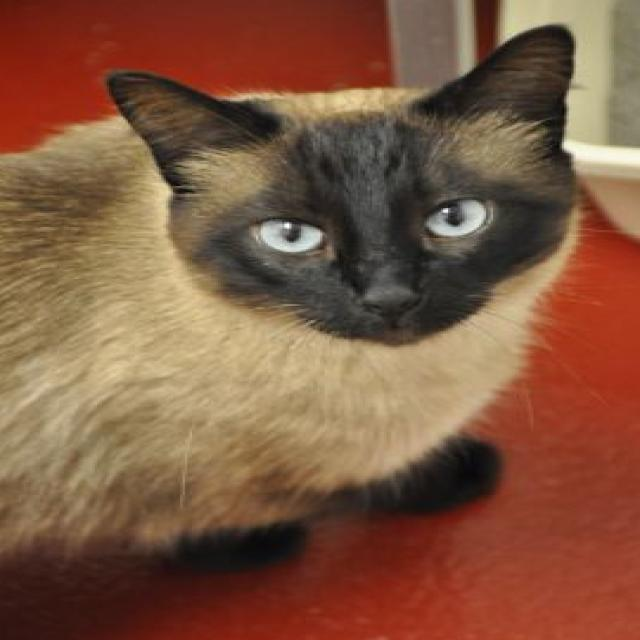Birman: (0, 19, 588, 586)
